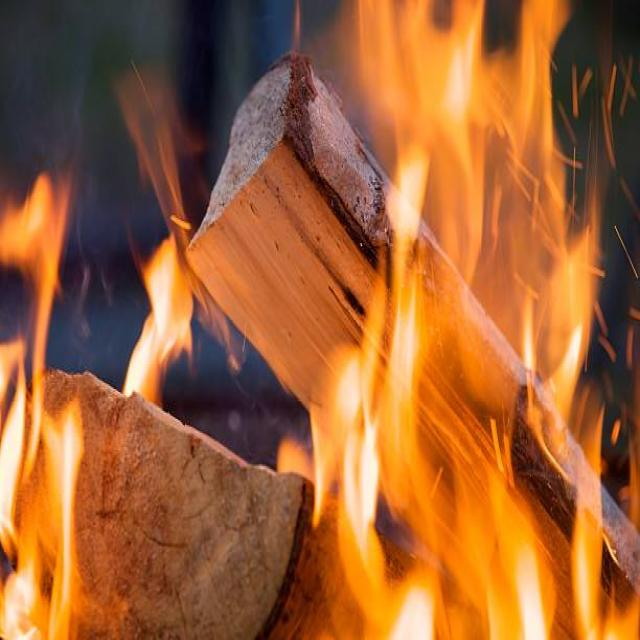fire: (310, 84, 592, 530)
